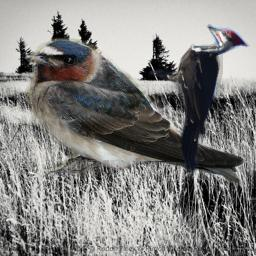Swallow: (21, 37, 248, 186)
Woodpecker: (148, 24, 250, 175)
